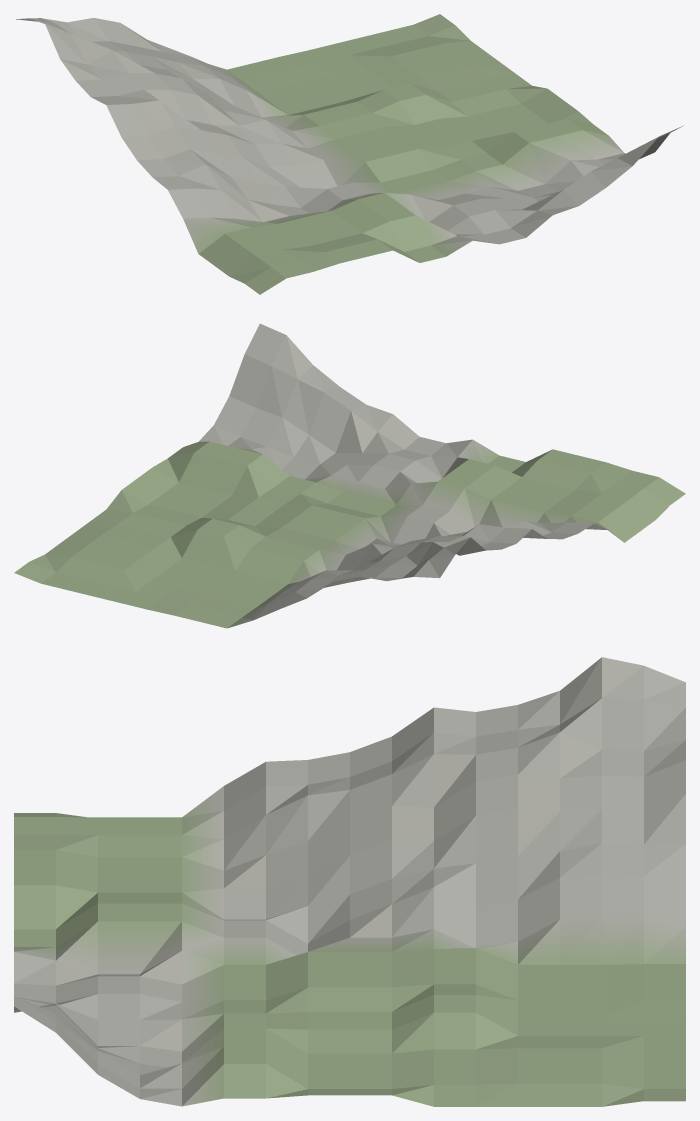
3 renders of one model, top to bottom at view 1: azimuth 30°, elevation 25°; view 2: azimuth 150°, elevation 25°; view 3: azimuth 270°, elevation 25°, orthographic. The views are drawn at different scales.
Size of the model in its own units: 32 by 9.54 by 32.
